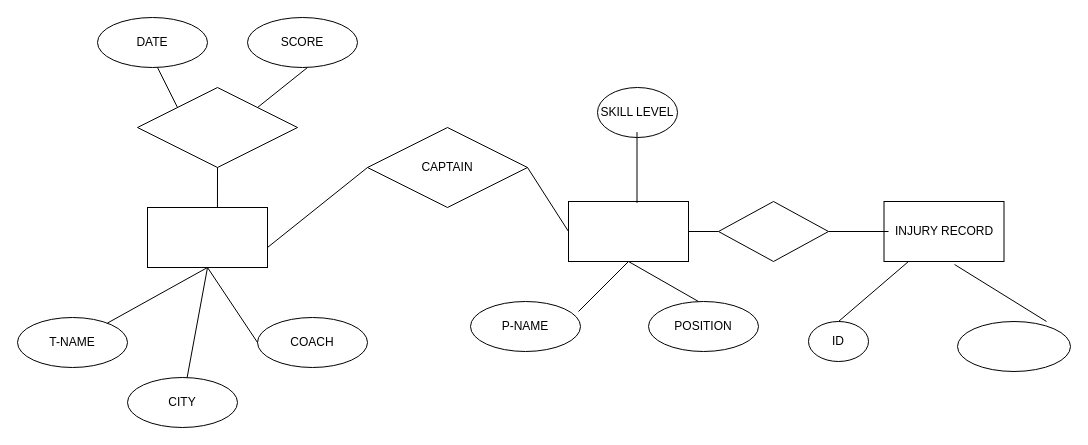
This 1088x445 diagram has some shape labels left out. The centre of each missing label's shape, as x and y in pixels:
BELONG TO: (x=773, y=231)
DESCRIPTIPON: (x=1013, y=346)
GAME: (x=217, y=127)
PLAYER: (x=628, y=231)
TEAM: (x=207, y=237)
